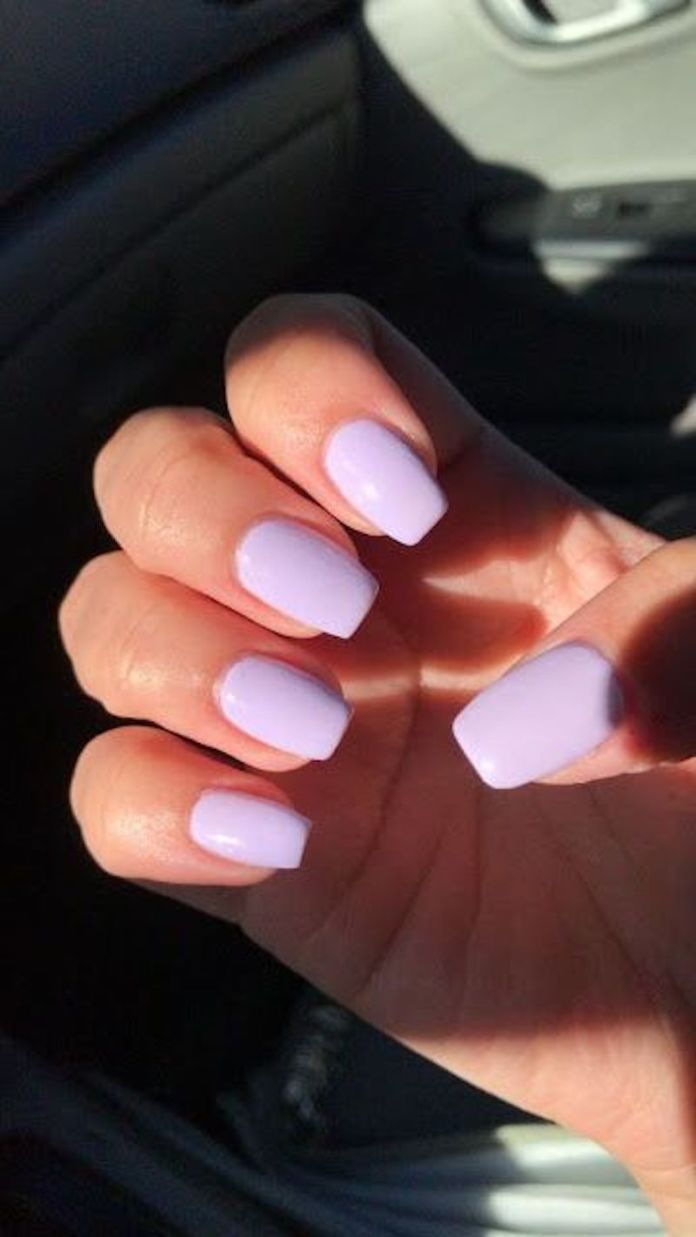nails: (450, 627, 634, 798), (229, 504, 386, 643), (307, 407, 452, 557), (208, 648, 358, 765), (182, 779, 317, 881)
